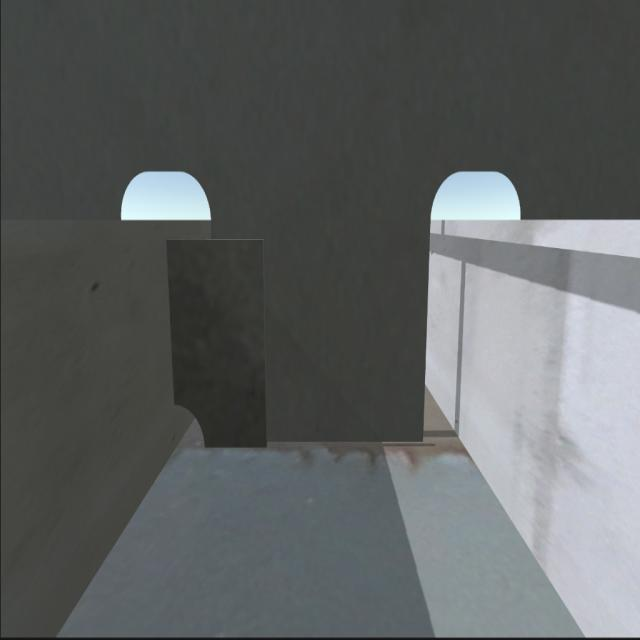fillet_hole: (176, 397, 207, 451)
fillet_yong_jeop_jang: (200, 441, 427, 454)
longi_yong_jeop_jang: (162, 238, 185, 407)
plate_CP01: (165, 234, 268, 451)
